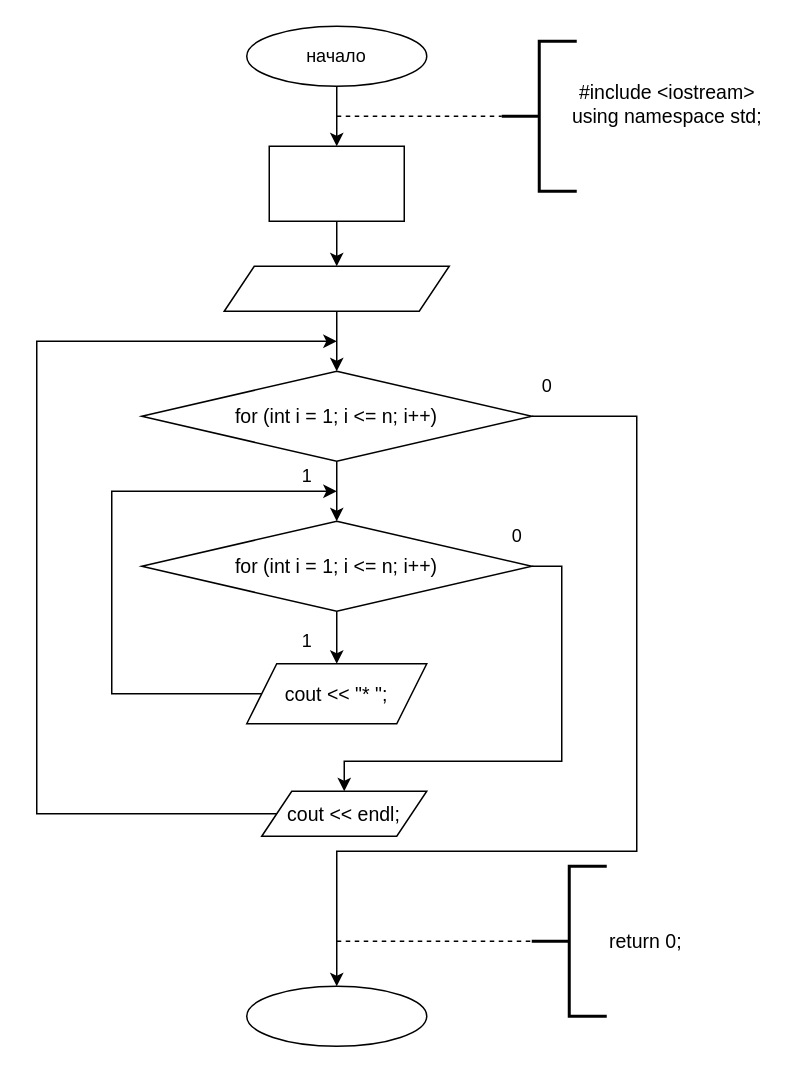
Image size: 798x1073. Some labels were removed from this diagram. The box of each missing label's shape, as (x1, y1, x2, y2) in pixels:
cin >> n;: (223, 265, 449, 311)
int n, k;: (268, 145, 404, 221)
конец: (245, 985, 427, 1046)
